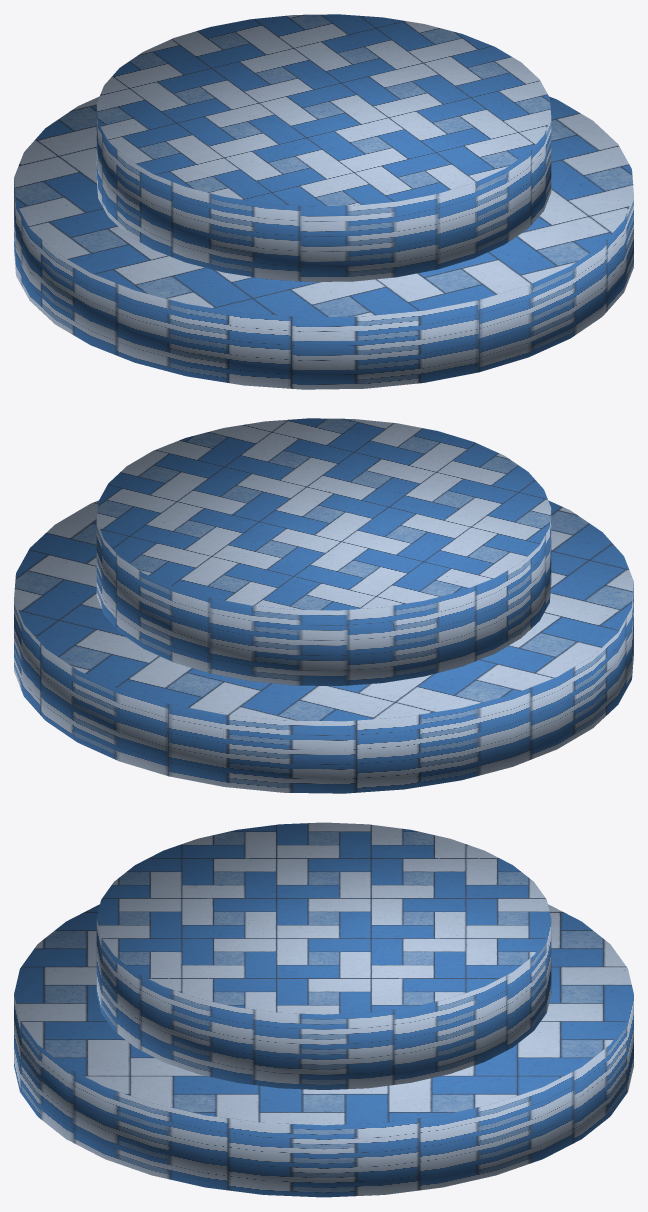
The model's file is duck_float.glb.
3 views of the same model, one above another, from view 1: azimuth 30°, elevation 25°; view 2: azimuth 150°, elevation 25°; view 3: azimuth 270°, elevation 25° (orthographic).
Visible parts, largest first — view 1: 柱体.001; view 2: 柱体.001; view 3: 柱体.001.
Part boxes in pixels (x1=…): 柱体.001: x1=14, y1=14, x2=633, y2=389; 柱体.001: x1=14, y1=418, x2=633, y2=793; 柱体.001: x1=14, y1=822, x2=633, y2=1197.
Size of the model in its own units: 1.66 by 0.4372 by 1.66.
1 material, 1 textured.
